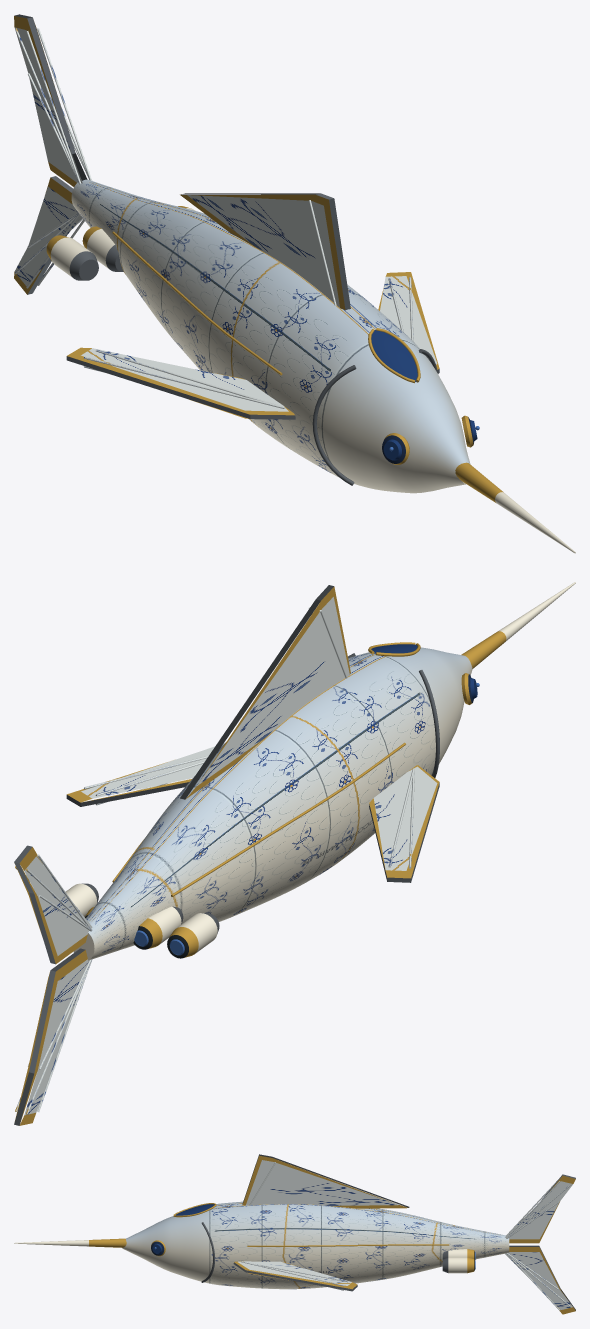
3 views of the same model, one above another, from view 1: azimuth 30°, elevation 25°; view 2: azimuth 150°, elevation 25°; view 3: azimuth 270°, elevation 25° (orthographic). The views are drawn at different scales.
Visible parts, largest first — view 1: marlin_hull; view 2: marlin_hull; view 3: marlin_hull.
Part boxes in pixels (x1,y1,x2,y2): marlin_hull: [14, 14, 575, 553]; marlin_hull: [14, 582, 575, 1125]; marlin_hull: [14, 1154, 575, 1314].
Size of the model in its own units: 29.91 by 26.23 by 84.
Materials: 1 (1 with a texture image).
